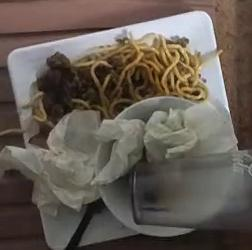asian_noodles: (73, 35, 208, 118)
beef: (29, 52, 78, 148)
